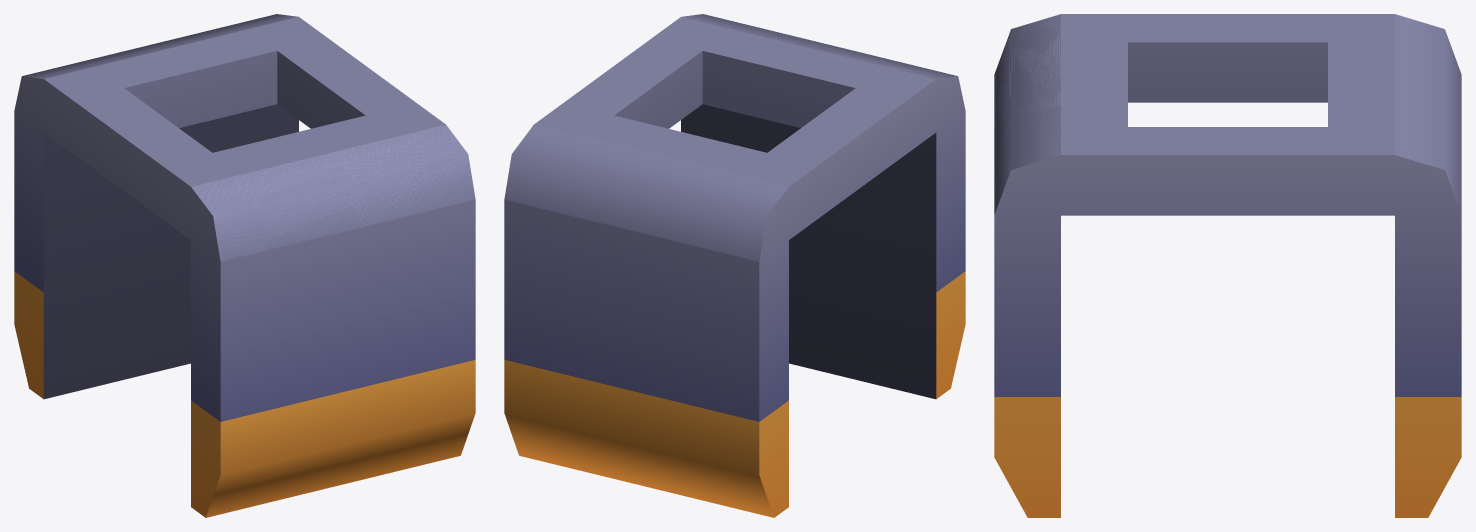
The model's file is cover-stripe-top.glb.
3 views of the same model, side by side, from view 1: azimuth 30°, elevation 25°; view 2: azimuth 150°, elevation 25°; view 3: azimuth 270°, elevation 25° (orthographic). The views are drawn at different scales.
Parts seen in each view (by area): view 1: cover-stripe-top; view 2: cover-stripe-top; view 3: cover-stripe-top.
Boxes of the visible parts, <box> form: cover-stripe-top: <box>14,14,475,517</box>; cover-stripe-top: <box>504,14,965,517</box>; cover-stripe-top: <box>994,14,1461,517</box>.
Size of the model in its own units: 1 by 1.2 by 1.4.
